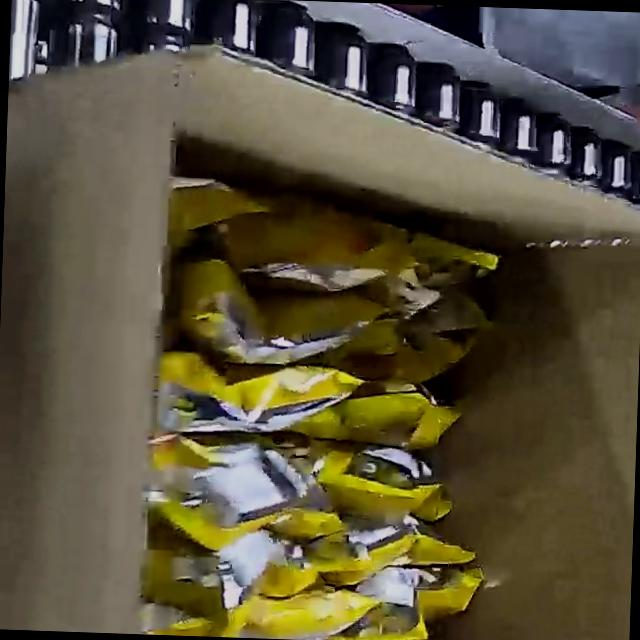salted: (138, 175, 508, 640)
